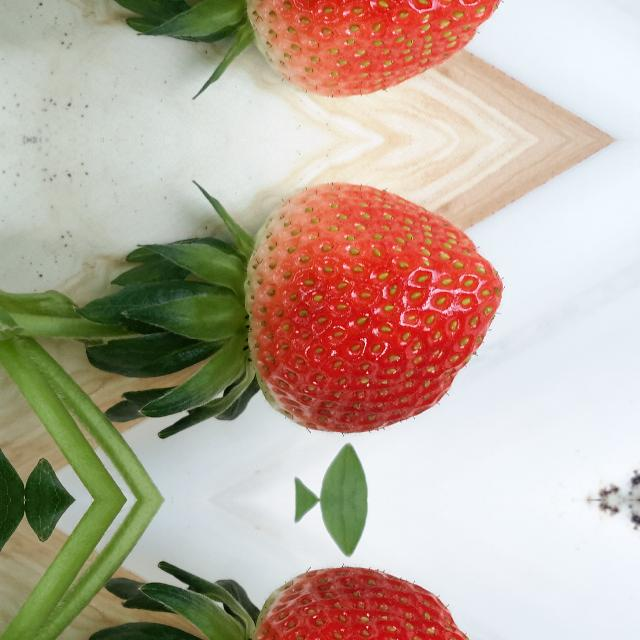Health_100: (243, 179, 505, 437), (243, 0, 505, 101), (243, 563, 505, 640)
